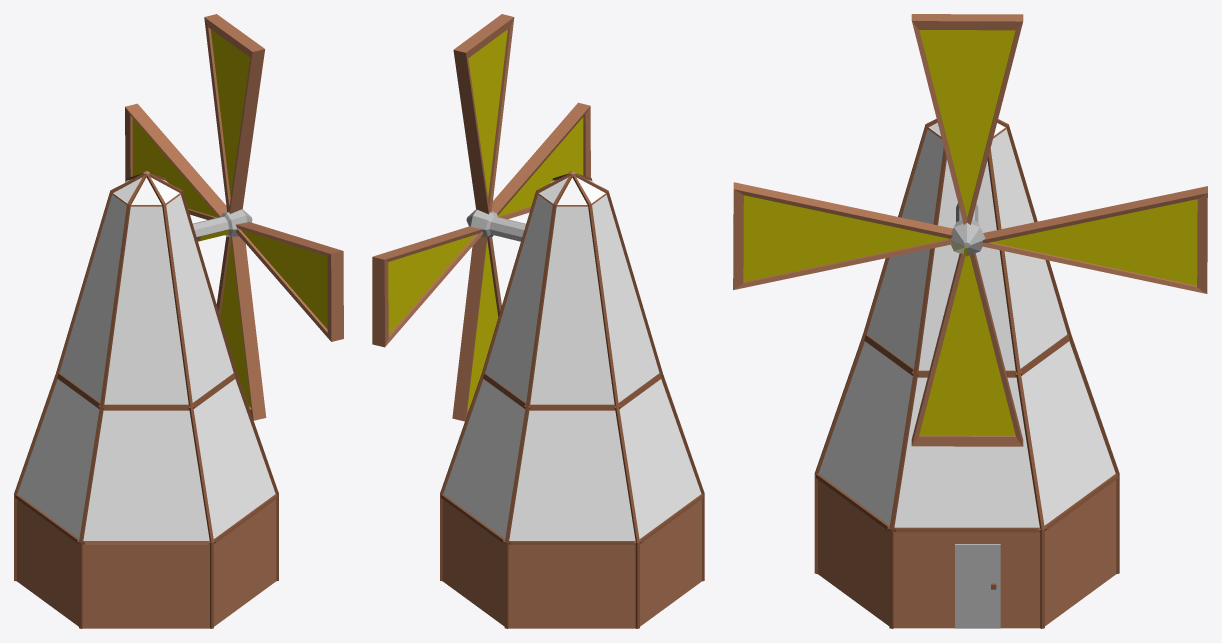
File: WINDMILL.fbx
3 views of the same model, side by side, from view 1: azimuth 30°, elevation 25°; view 2: azimuth 150°, elevation 25°; view 3: azimuth 270°, elevation 25° (orthographic). The views are drawn at different scales.
Parts seen in each view (by area): view 1: Cylinder, Cube.002; view 2: Cylinder, Cube.002; view 3: Cylinder, Cube.002.
Part boxes in pixels (box(x1,y1,x2,y2)): Cylinder: box(14, 171, 278, 628); Cube.002: box(125, 14, 343, 420); Cylinder: box(440, 171, 704, 628); Cube.002: box(372, 14, 590, 421); Cylinder: box(814, 119, 1119, 628); Cube.002: box(733, 14, 1207, 446).
Bounding box in the file's own units: 1488 × 3649 × 2593.
